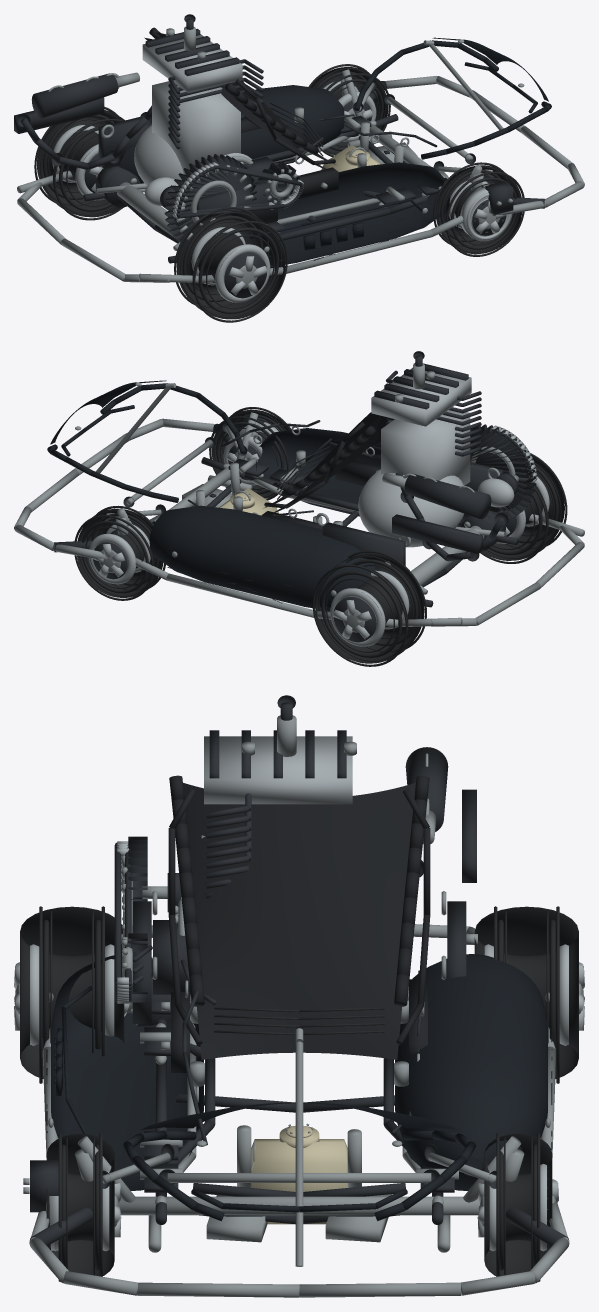
File: SM_CT4_PlayerChassis.fbx
3 views of the same model, one above another, from view 1: azimuth 30°, elevation 25°; view 2: azimuth 150°, elevation 25°; view 3: azimuth 270°, elevation 25° (orthographic). The views are drawn at different scales.
Visible parts, largest first — view 1: SM_CT4_PlayerChassis; view 2: SM_CT4_PlayerChassis; view 3: SM_CT4_PlayerChassis.
Part boxes in pixels (x1=…): SM_CT4_PlayerChassis: x1=14, y1=14, x2=584, y2=322; SM_CT4_PlayerChassis: x1=14, y1=351, x2=584, y2=666; SM_CT4_PlayerChassis: x1=14, y1=695, x2=584, y2=1297.
Bounding box in the file's own units: 209 × 134 × 104.
